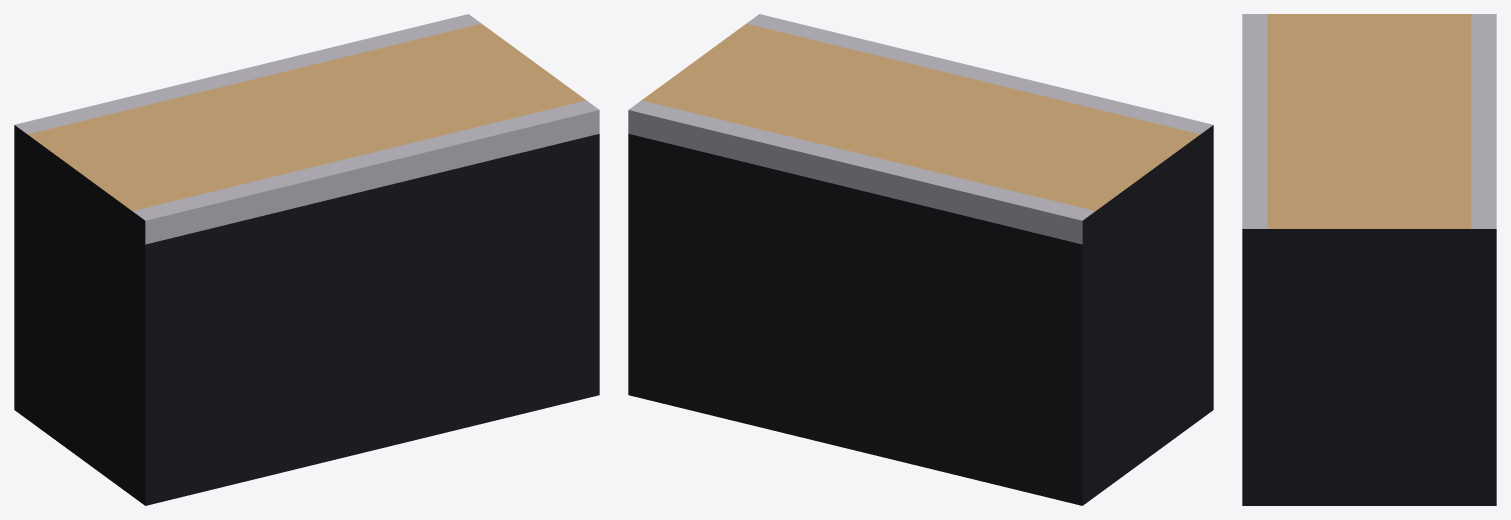
Rendered from ManPad_Half_6_TwoGrind.fbx.
3 views of the same model, side by side, from view 1: azimuth 30°, elevation 25°; view 2: azimuth 150°, elevation 25°; view 3: azimuth 270°, elevation 25° (orthographic). The views are drawn at different scales.
Visible parts, largest first — view 1: ManPad_Half_6_TwoGrind; view 2: ManPad_Half_6_TwoGrind; view 3: ManPad_Half_6_TwoGrind.
Boxes of the visible parts, bbox=[...] form: ManPad_Half_6_TwoGrind: bbox=[14, 14, 599, 505]; ManPad_Half_6_TwoGrind: bbox=[628, 14, 1213, 505]; ManPad_Half_6_TwoGrind: bbox=[1242, 14, 1496, 505].
Bounding box in the file's own units: 10 × 6 × 5.
